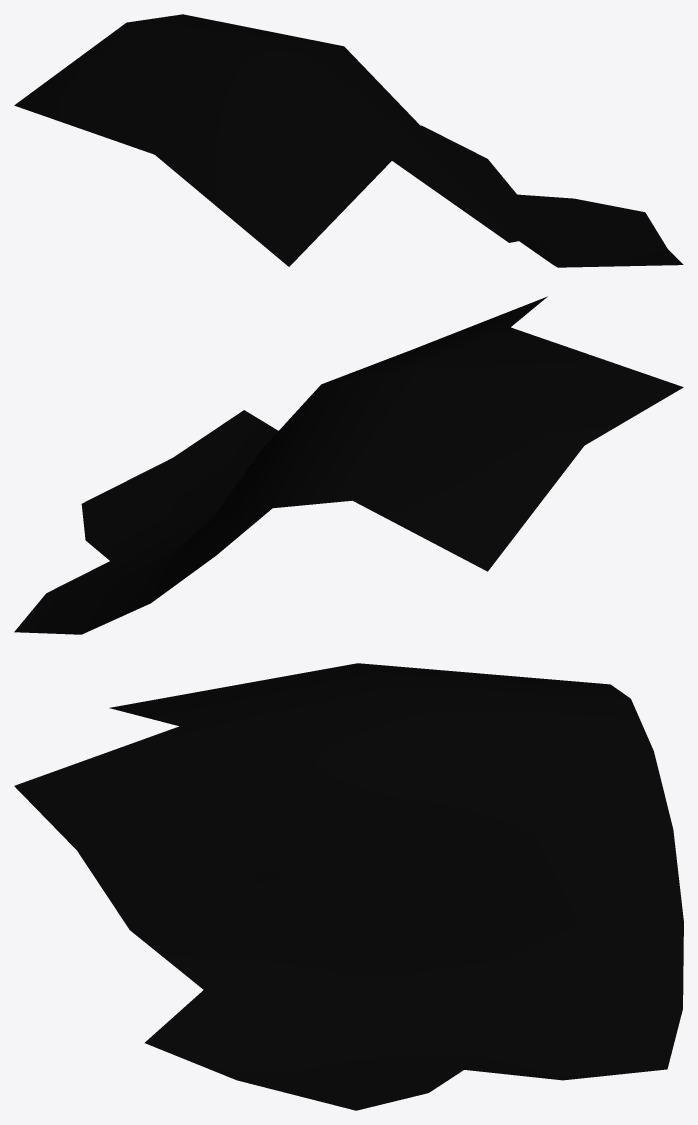
Rendered from HTOWN01_TREESHADOWS01.fbx.
3 renders of one model, top to bottom at view 1: azimuth 30°, elevation 25°; view 2: azimuth 150°, elevation 25°; view 3: azimuth 270°, elevation 25°, orthographic. The views are drawn at different scales.
Parts seen in each view (by area): view 1: HTOWN01_TREESHADOWS01; view 2: HTOWN01_TREESHADOWS01; view 3: HTOWN01_TREESHADOWS01.
Part boxes in pixels (bbox=[...]): HTOWN01_TREESHADOWS01: bbox=[14, 14, 683, 267]; HTOWN01_TREESHADOWS01: bbox=[14, 296, 683, 634]; HTOWN01_TREESHADOWS01: bbox=[14, 663, 683, 1110].
Size of the model in its own units: 159746 by 68241 by 167715.
1 material, 1 textured.
